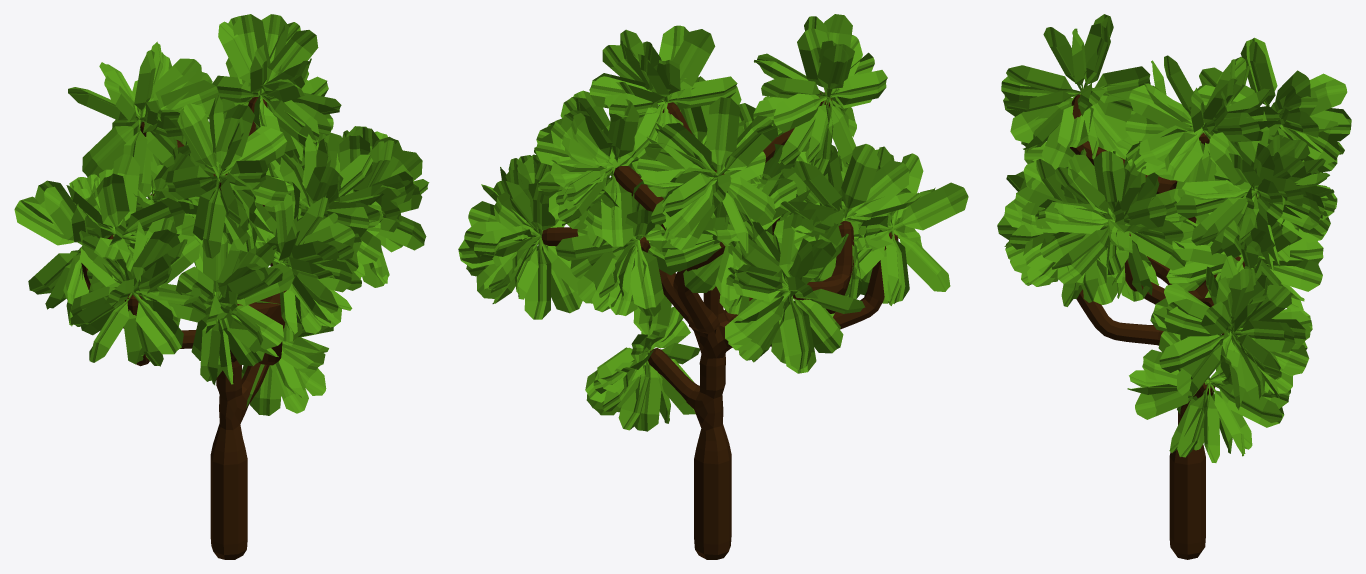
Rendered from tree.fbx.
The picture shows the model from 3 angles, left to right: view 1: azimuth 30°, elevation 25°; view 2: azimuth 150°, elevation 25°; view 3: azimuth 270°, elevation 25°; orthographic projection.
Parts seen in each view (by area): view 1: Plane.921; view 2: Plane.921; view 3: Plane.921.
Boxes of the visible parts, x1,y1,x2,y2 form: Plane.921: (14, 14, 429, 559); Plane.921: (458, 14, 968, 559); Plane.921: (997, 14, 1351, 559).
Bounding box in the file's own units: 1101 × 1334 × 830.
